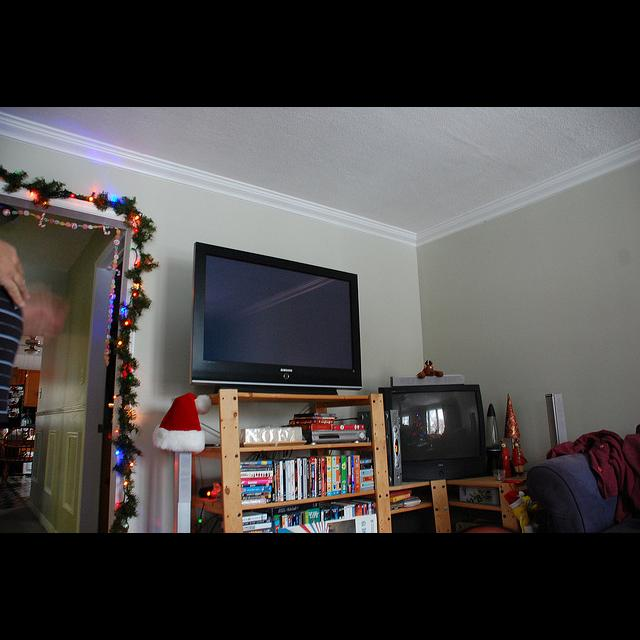Flat-Panel-TV: (194, 242, 362, 388)
